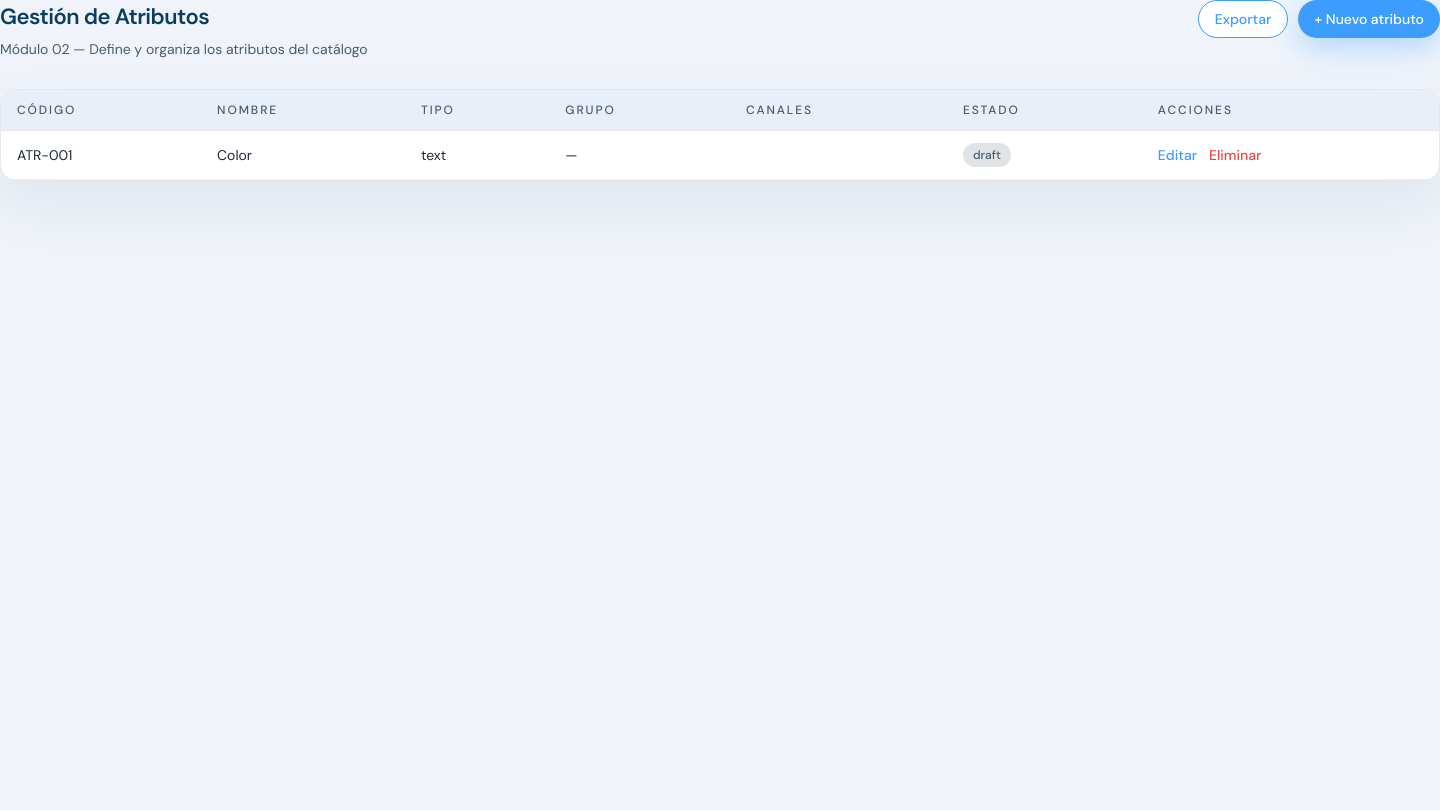
Test case: AttributesPage › abre edición y confirmación de borrado
Click the button "Editar". click: coordinates (1177, 155)
box: [1158,145,1197,165]
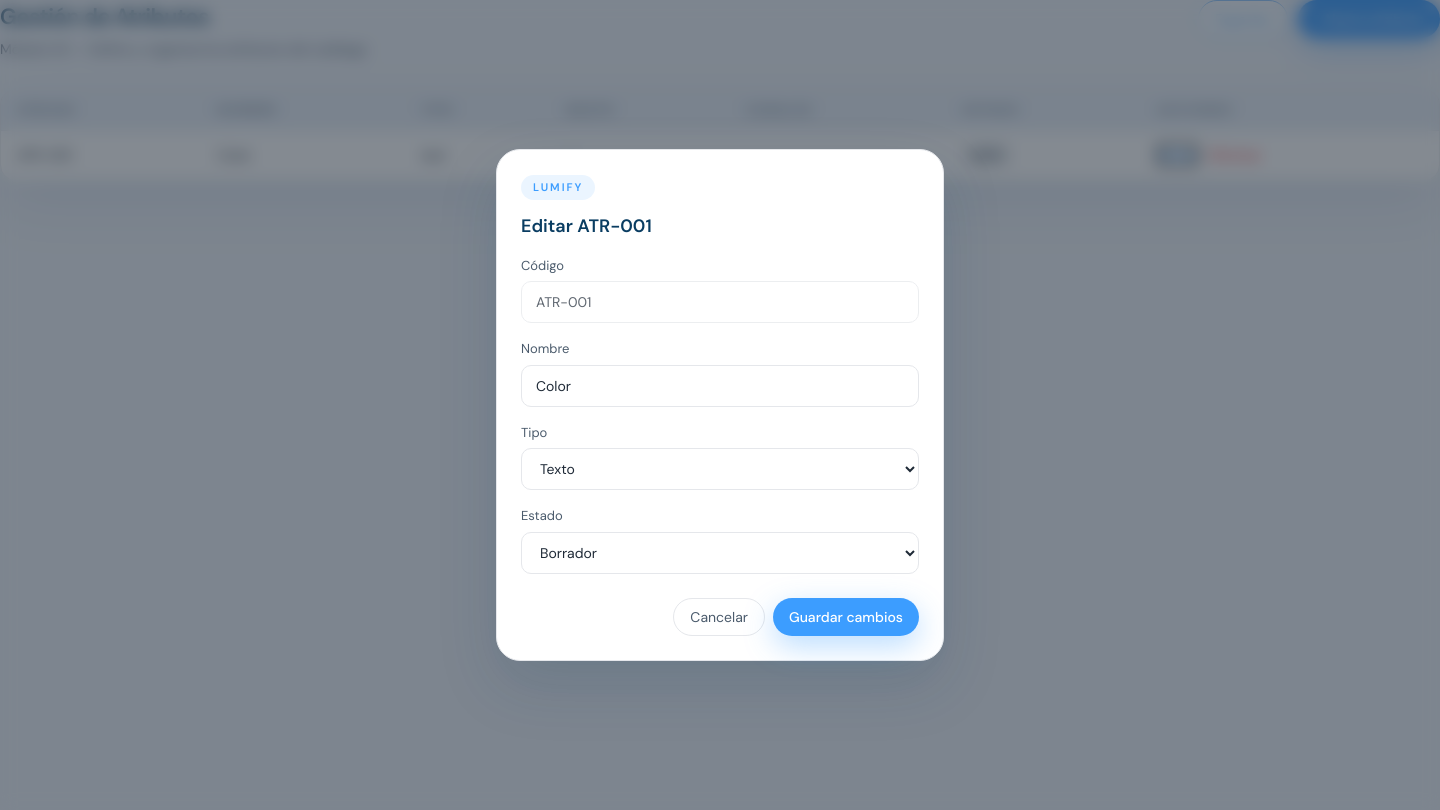
expect the heading "Editar ATR-001" is shown: met, box [521,214,652,238]
Click the button "Cancelar". click: coordinates (719, 617)
box: [673,598,765,636]
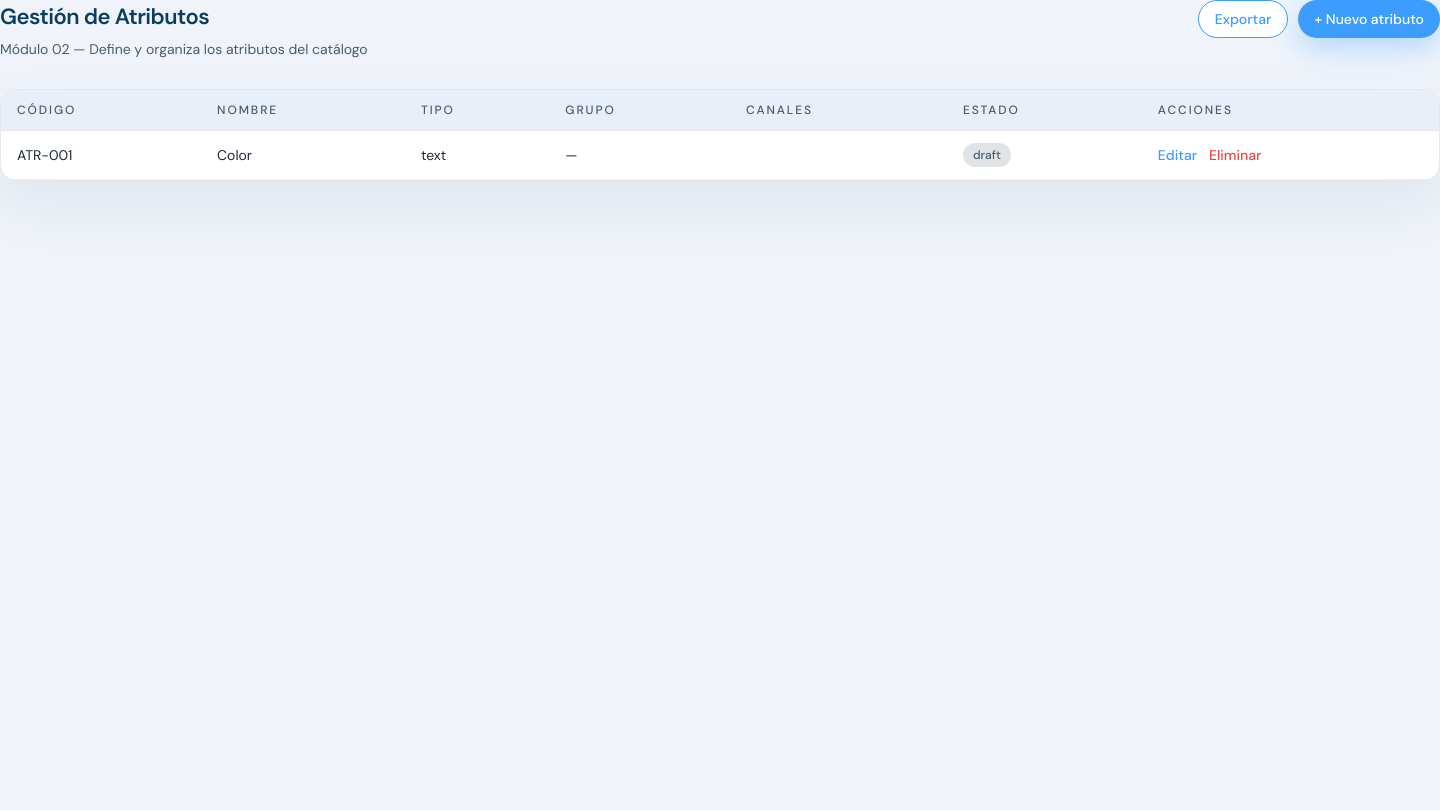
Click the button "Eliminar". click: coordinates (1235, 155)
box: [1209,145,1262,165]
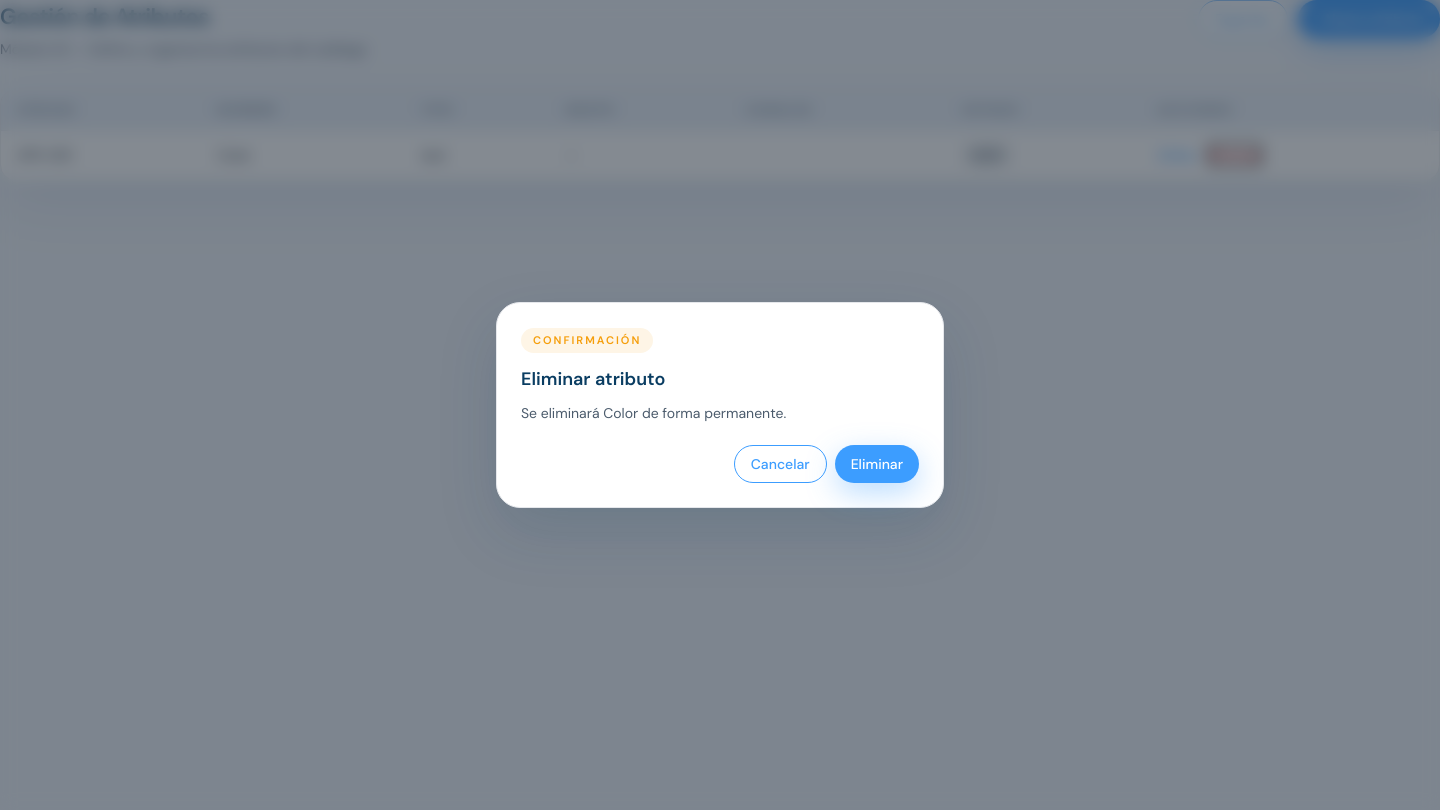
expect the heading "Eliminar atributo" is shown: met, box [521,367,665,391]
